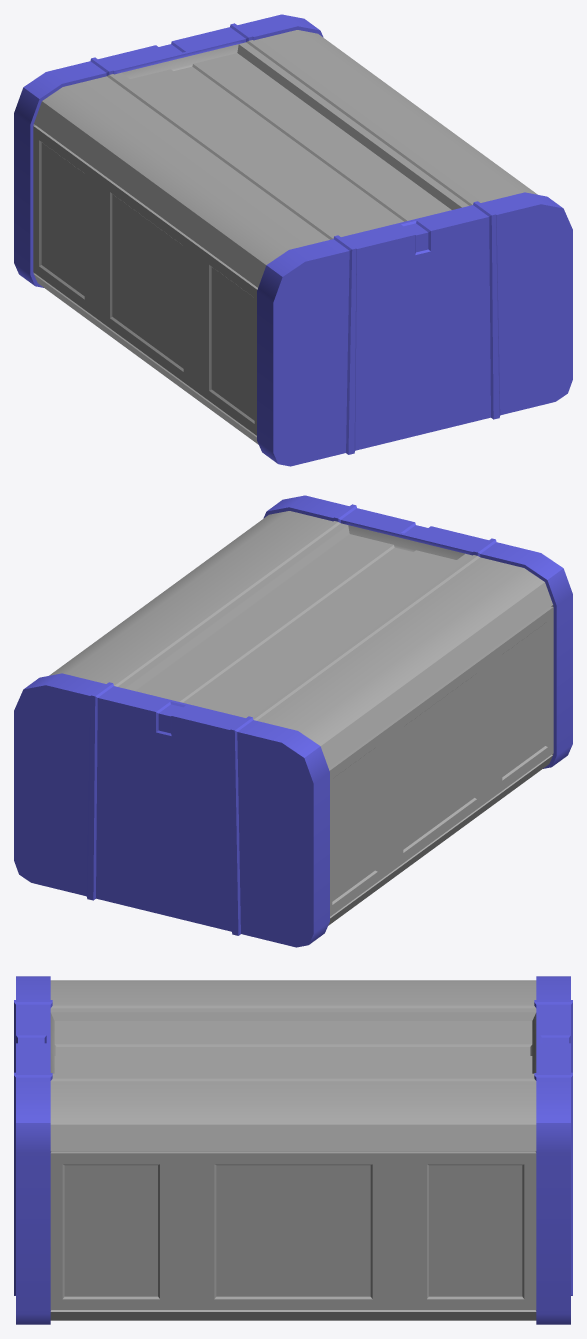
The model's file is crate high.fbx.
3 views of the same model, one above another, from view 1: azimuth 30°, elevation 25°; view 2: azimuth 150°, elevation 25°; view 3: azimuth 270°, elevation 25° (orthographic). The views are drawn at different scales.
Parts seen in each view (by area): view 1: crate_high2; view 2: crate_high2; view 3: crate_high2.
Boxes of the visible parts, left/top/right/bottom form: crate_high2: left=14, top=14, right=572, bottom=466; crate_high2: left=14, top=495, right=572, bottom=947; crate_high2: left=14, top=976, right=572, bottom=1324.
Size of the model in its own units: 93.03 by 60.7 by 140.
